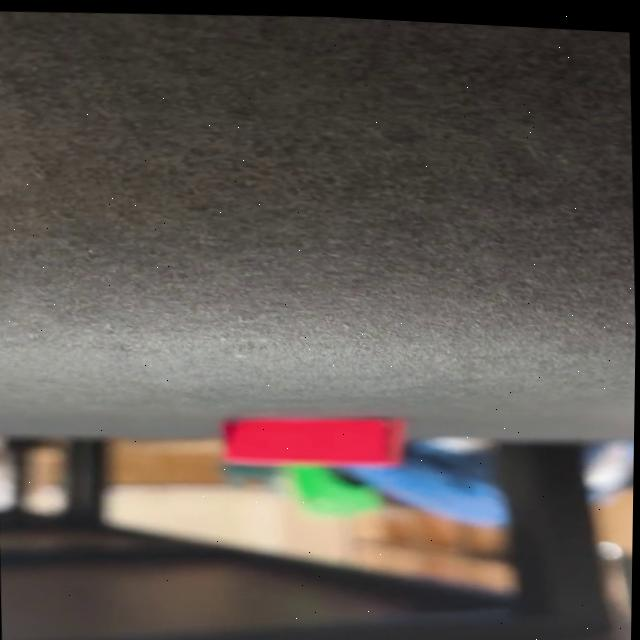red block: (220, 408, 411, 477)
